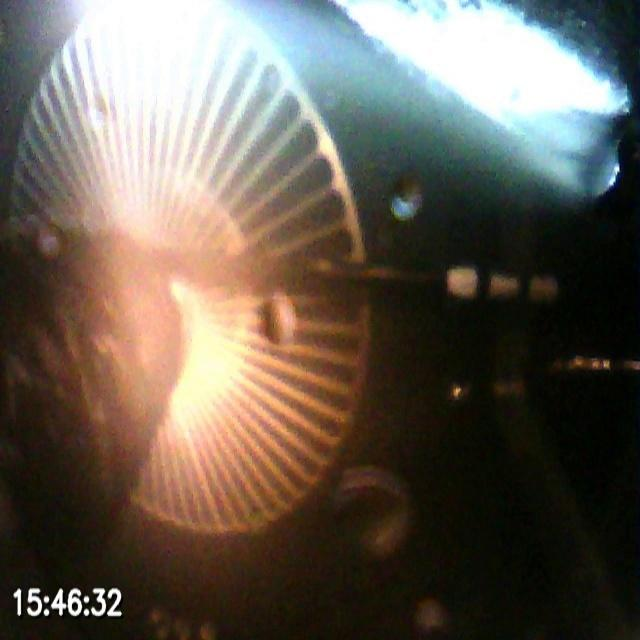white-dots: (444, 266, 558, 305)
